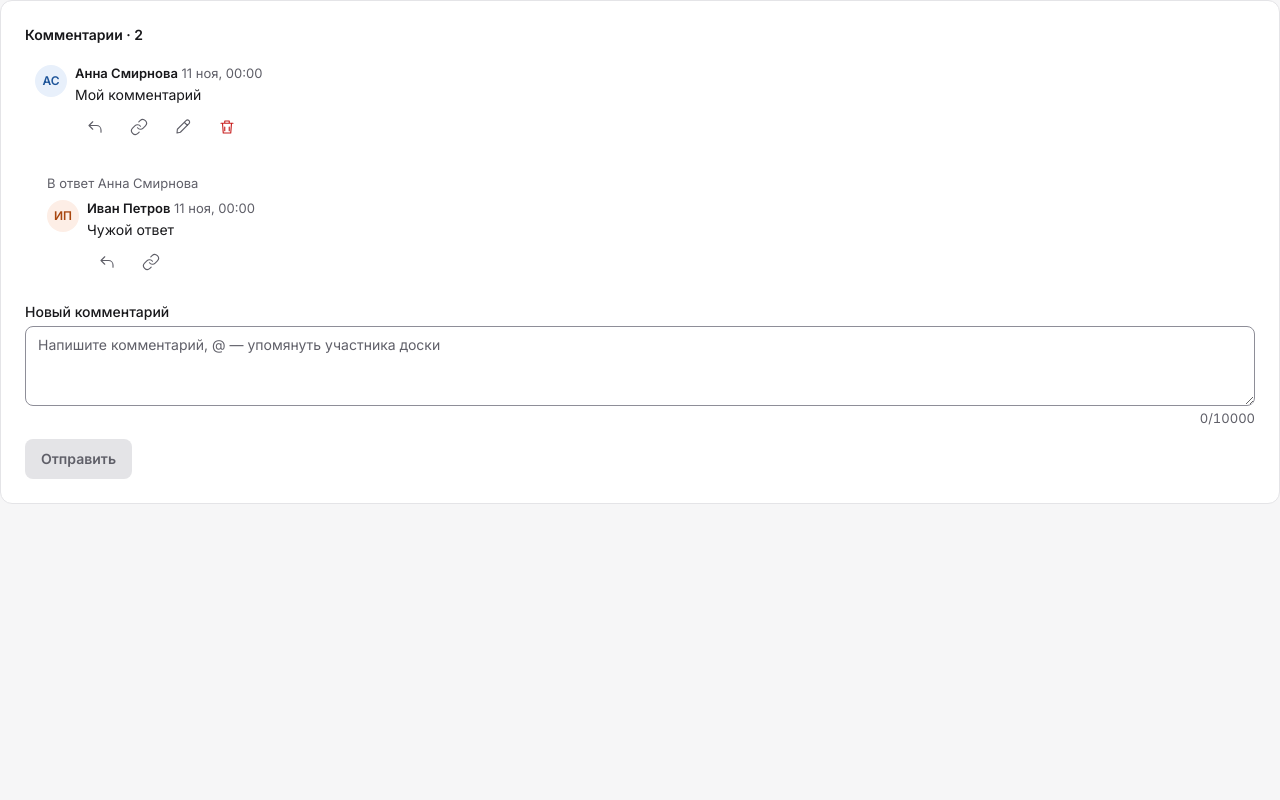
действия с комментариями › отмена редактирования сбрасывает черновик без запроса
Click the button named "Редактировать комментарий" at point(183, 127), box [163,107,203,147]
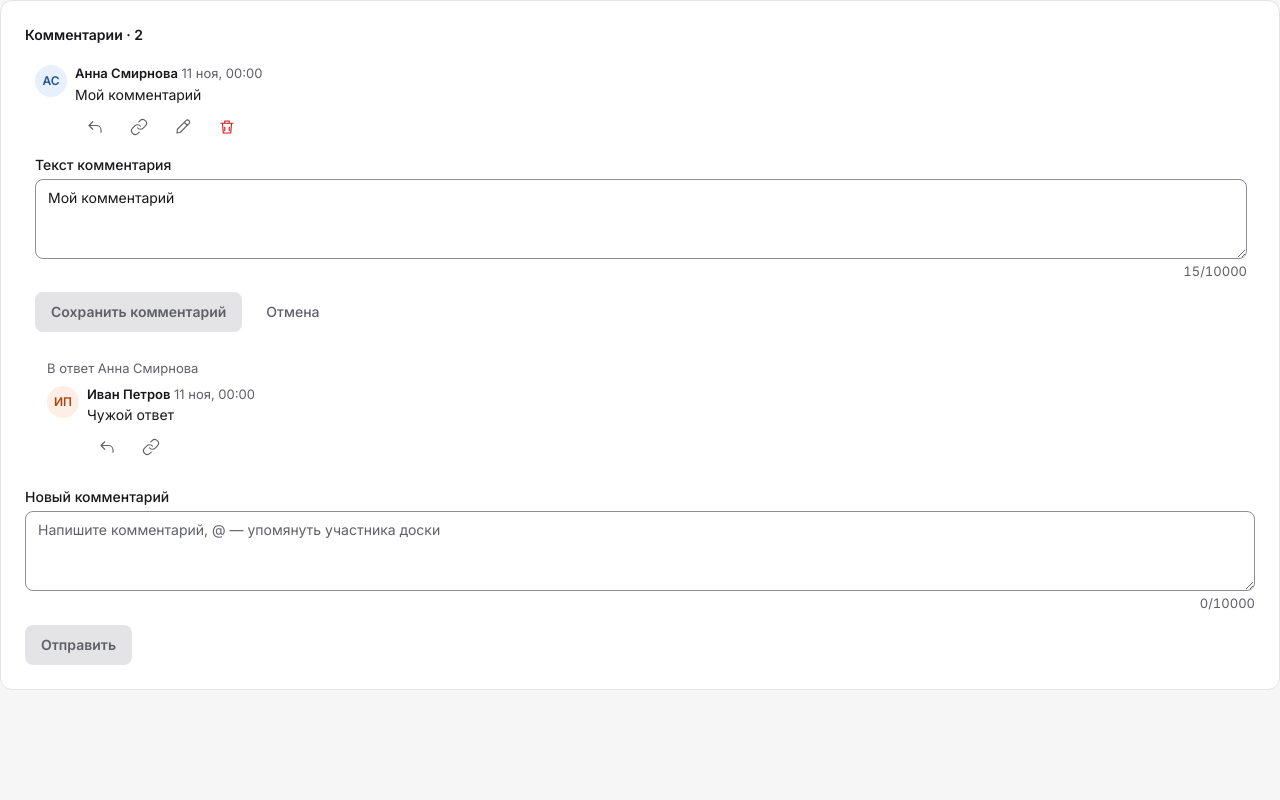
Replace the text in the text box labelled "Текст комментария" with "Черновик" at point(641, 219), box [35,179,1247,259]
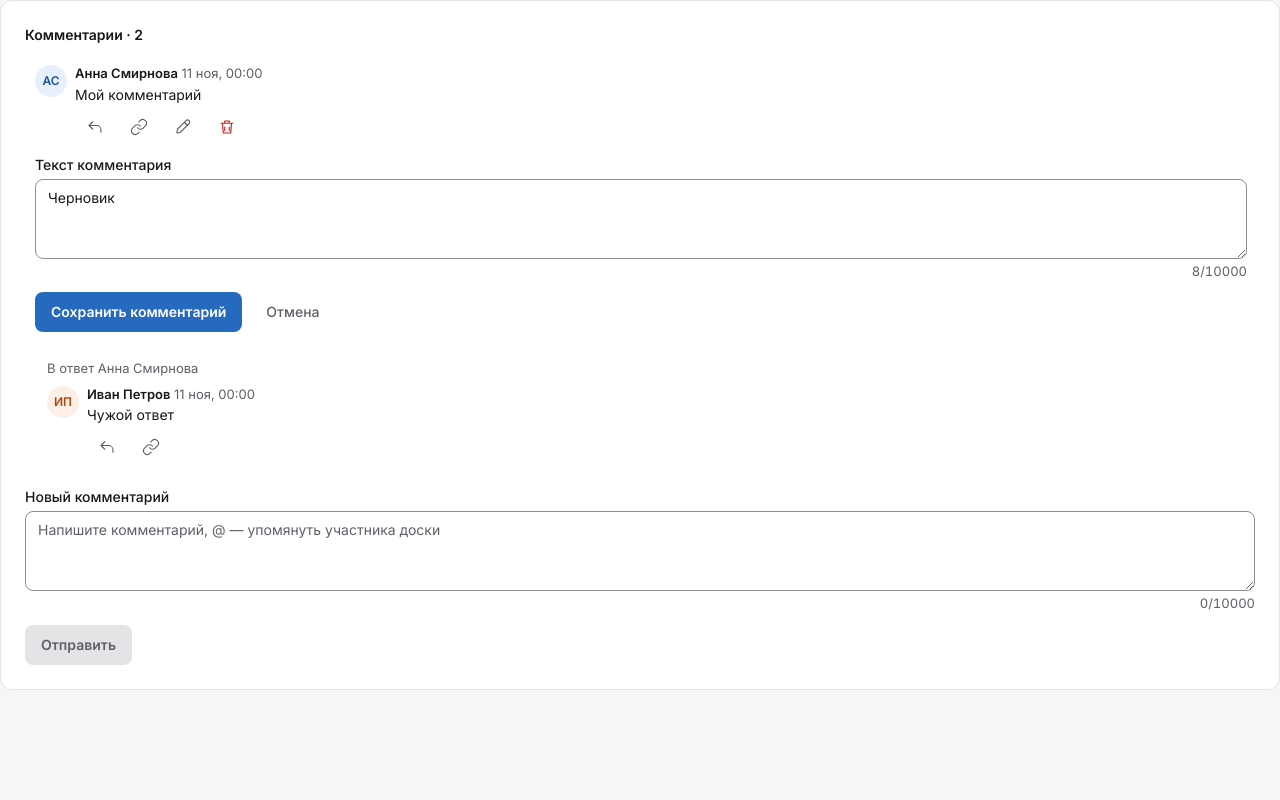
Click the button "Отмена" at point(293, 312), box [250,292,336,332]
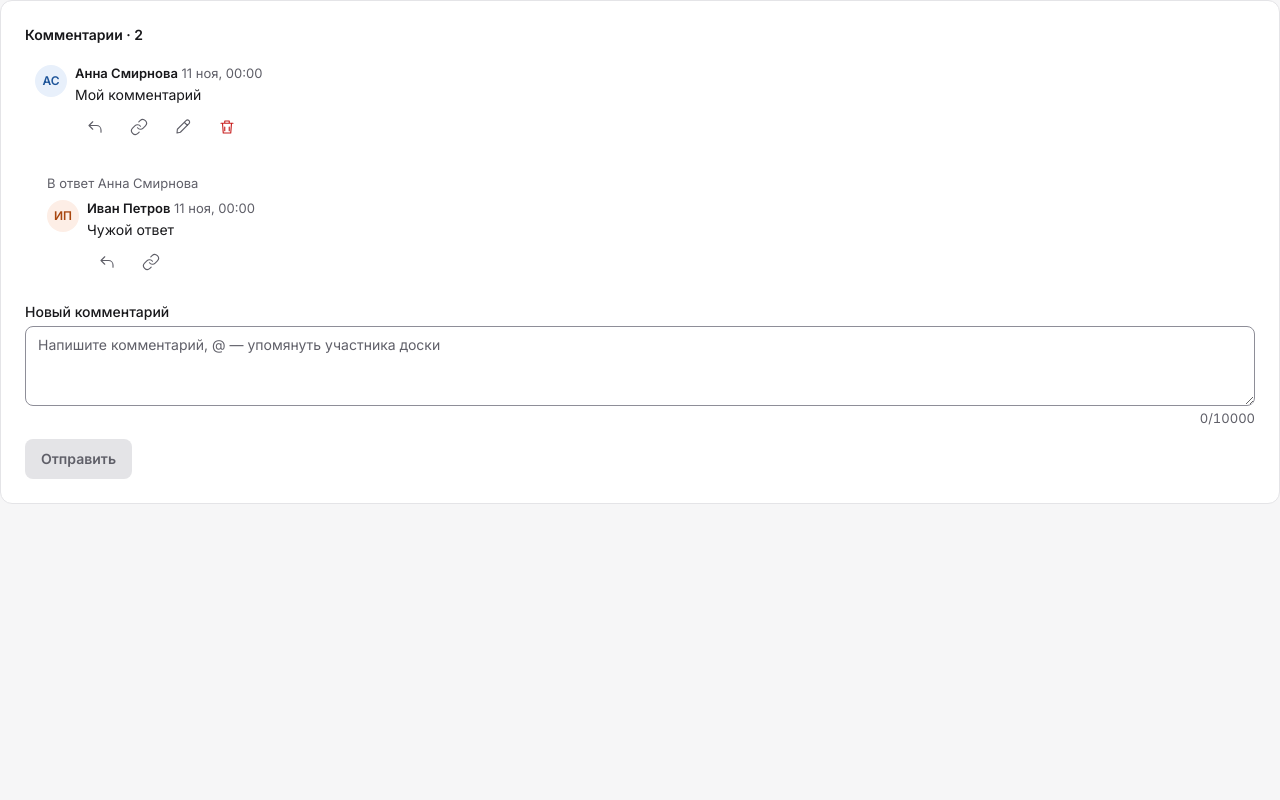
Click the button named "Редактировать комментарий" at point(183, 127), box [163,107,203,147]
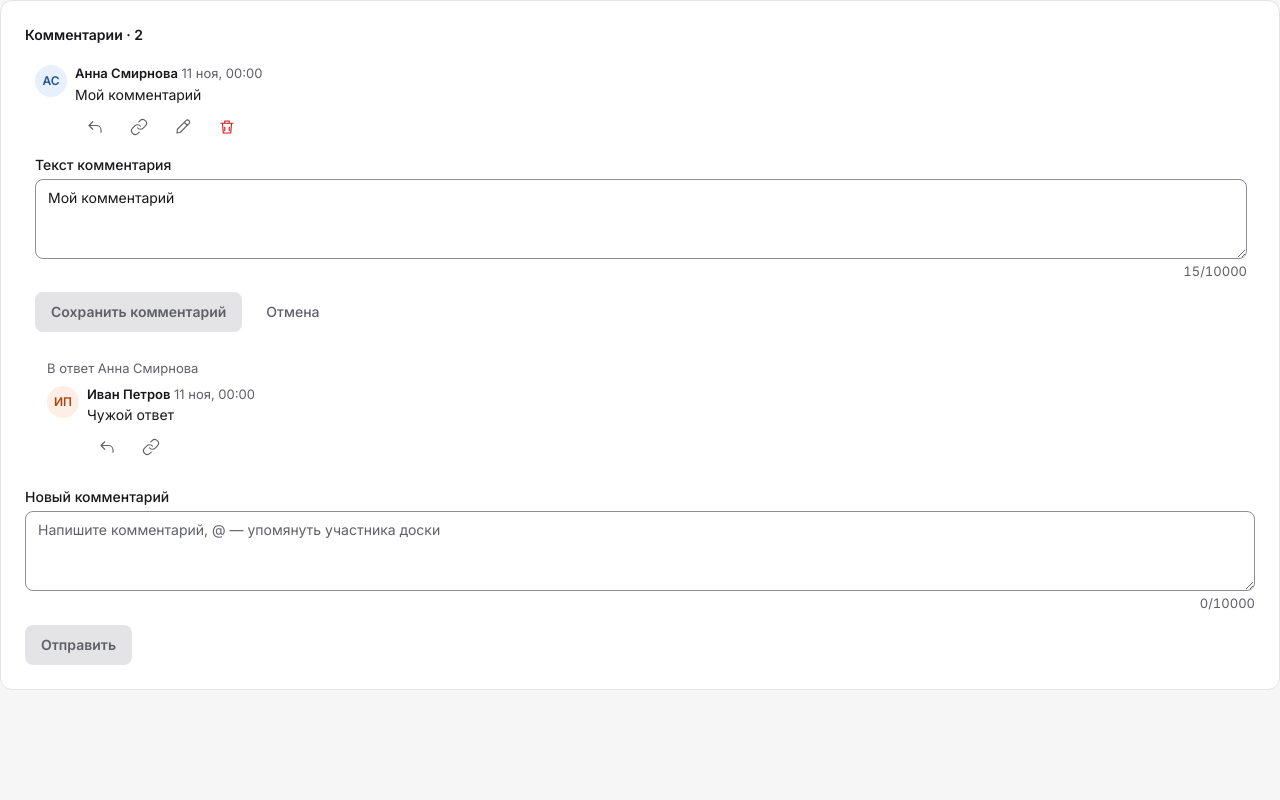
Expected: the text box labelled "Текст комментария" holds "Мой комментарий", [35,179,1247,259]
